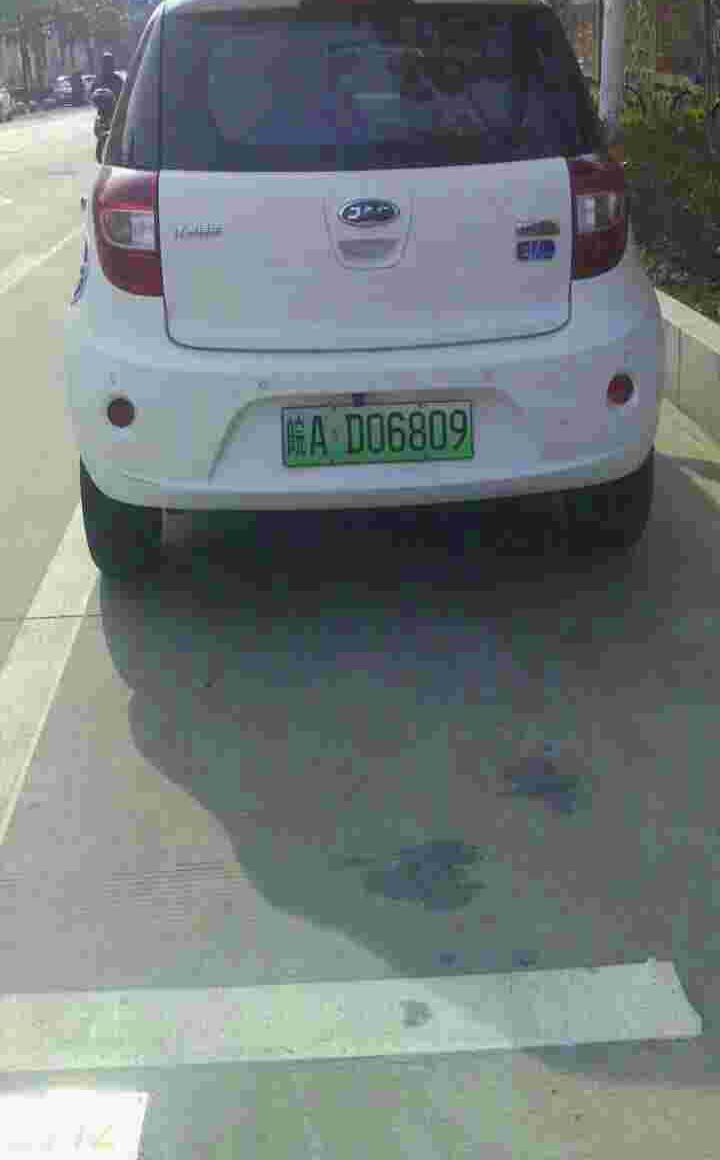car_green: (275, 404, 478, 465)
